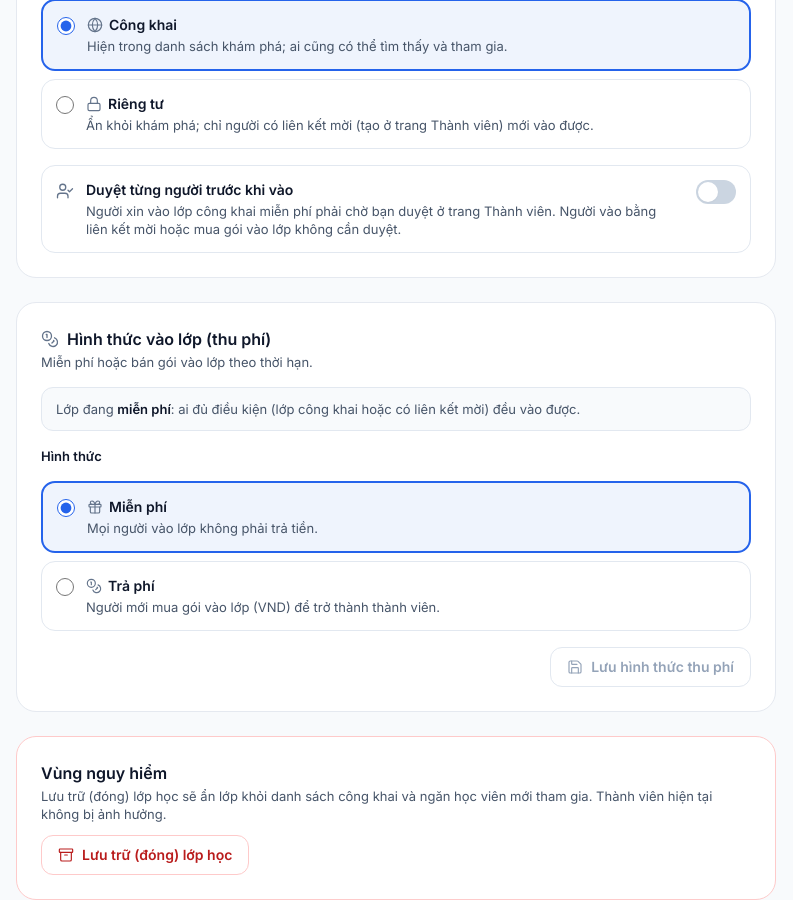
Test: StudioSettings - fee (Hình thức vào lớp) › surfaces a server rejection (e.g. price rules) and does not claim success
(page scrolled)
Click the radio button labelled "Trả phí" at (65, 587), box [56, 578, 74, 596]
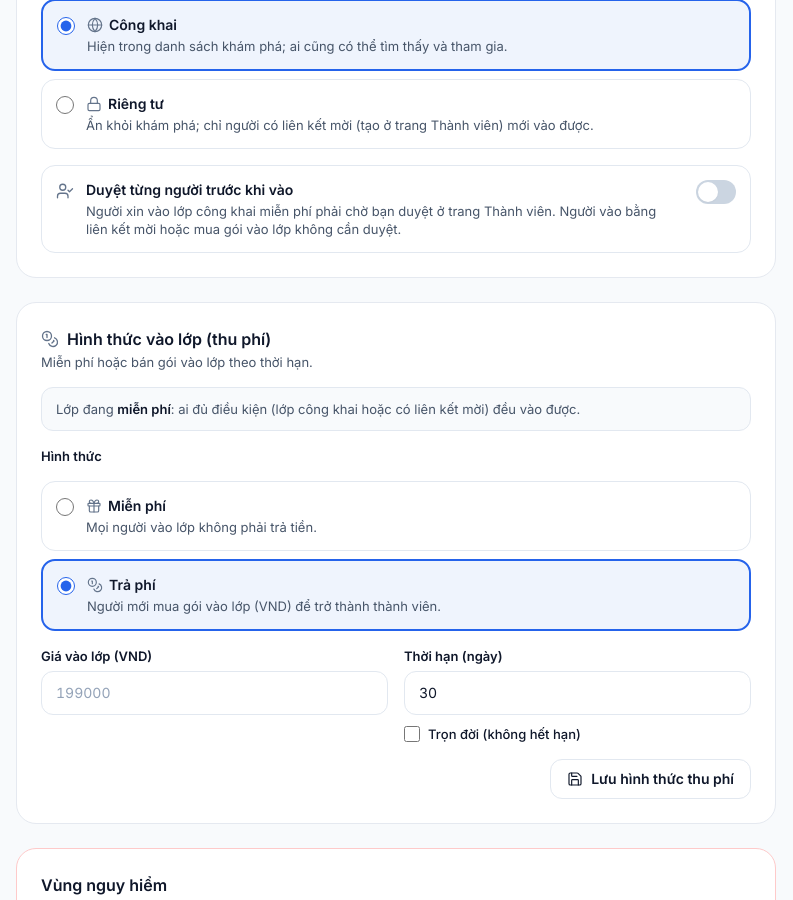
Type "100000" into the number field labelled "Giá vào lớp (VND)" at (214, 693), box [41, 671, 388, 715]
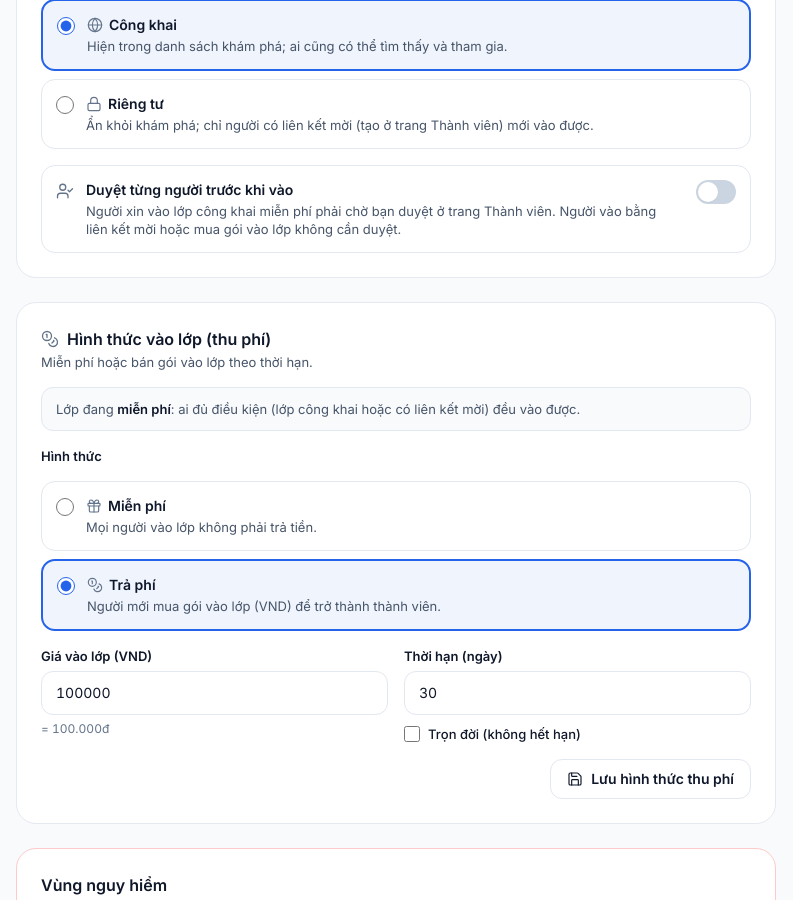
Click the button "Lưu hình thức thu phí" at (651, 779), box [550, 759, 751, 799]
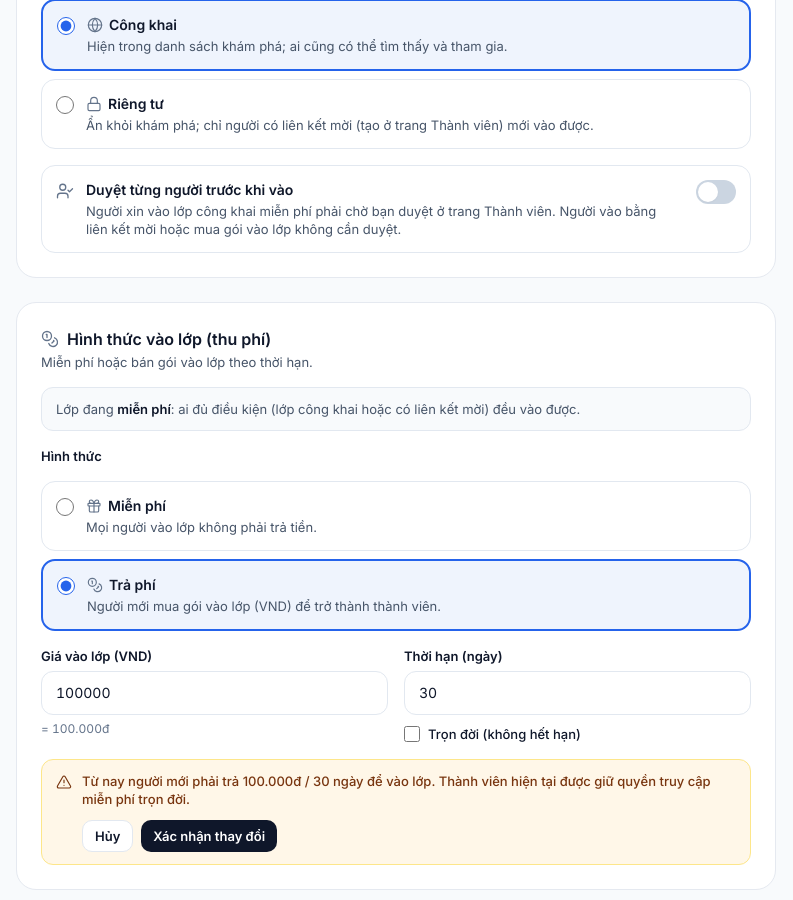
Click the button "Xác nhận thay đổi" at (209, 836), box [141, 820, 277, 852]
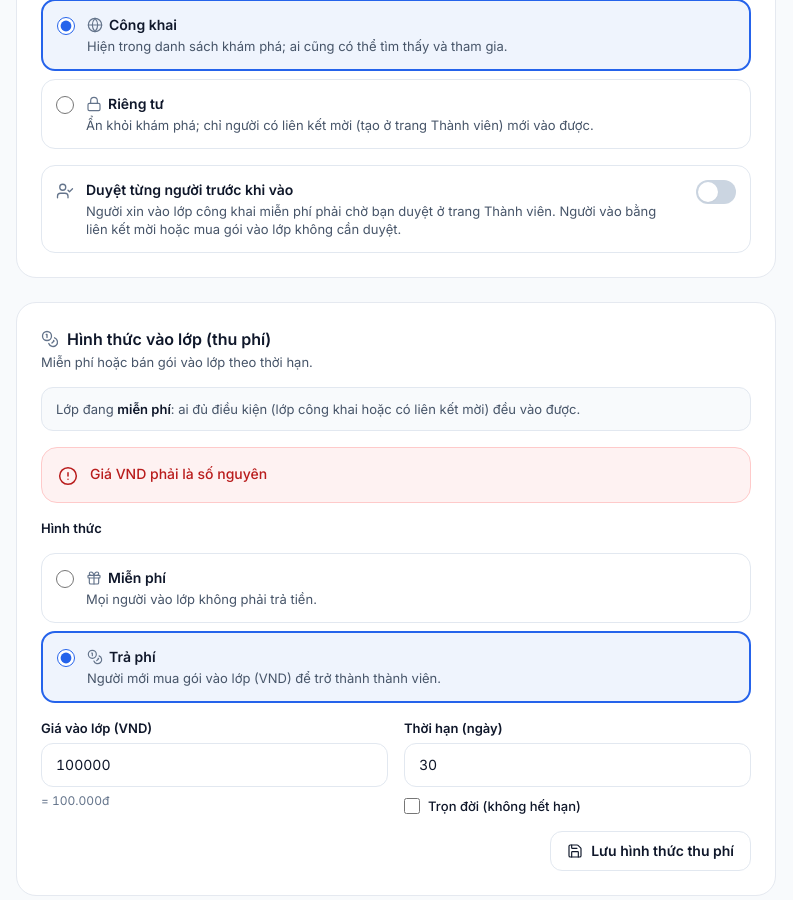
Result: the text "Giá VND phải là số nguyên" is shown at [90, 465, 267, 482]
